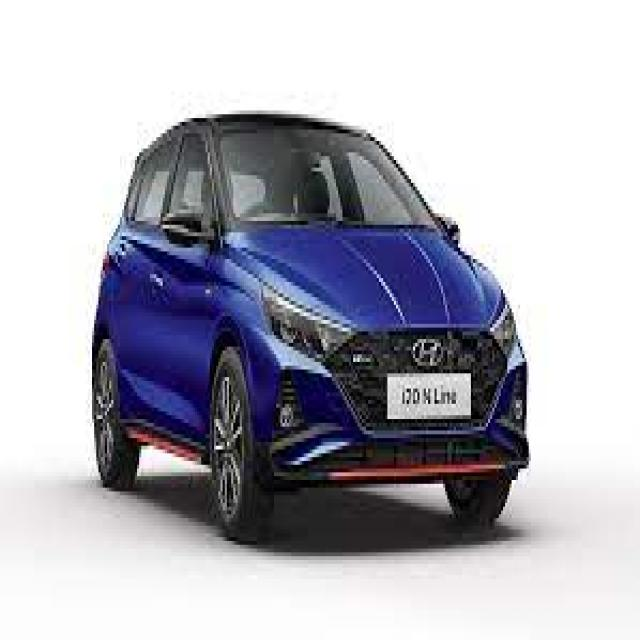car: (77, 102, 533, 556)
